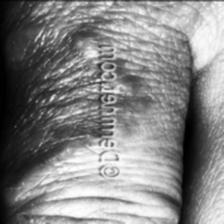Unclassified: (62, 28, 113, 55)
